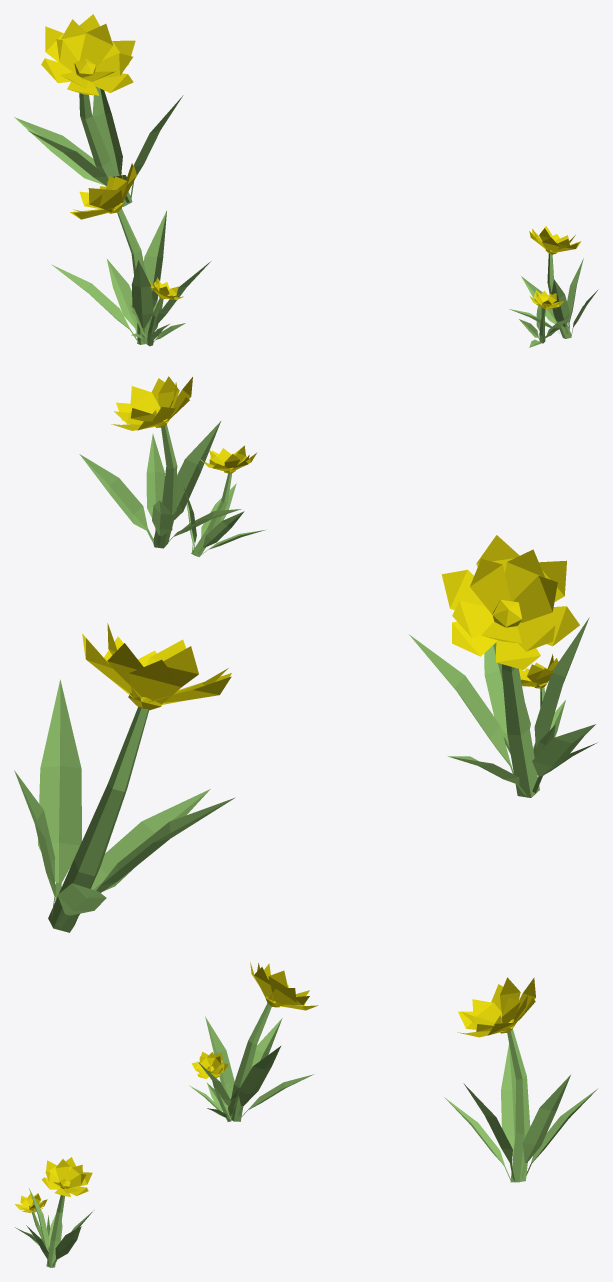
File: FlowerYellow03.fbx
The picture shows the model from 3 angles, top to bottom: view 1: azimuth 30°, elevation 25°; view 2: azimuth 150°, elevation 25°; view 3: azimuth 270°, elevation 25°; orthographic projection. The views are drawn at different scales.
Parts seen in each view (by area): view 1: Circle.533; view 2: Circle.533; view 3: Circle.533.
Part boxes in pixels (x1,y1,x2,y2): Circle.533: (14, 14, 598, 347); Circle.533: (14, 376, 597, 932); Circle.533: (15, 962, 598, 1267).
Size of the model in its own units: 69.17 by 29.65 by 88.94.
